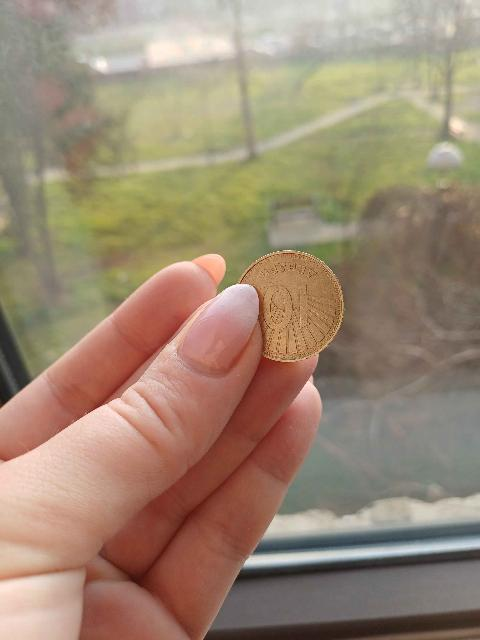coin: (239, 251, 344, 361)
